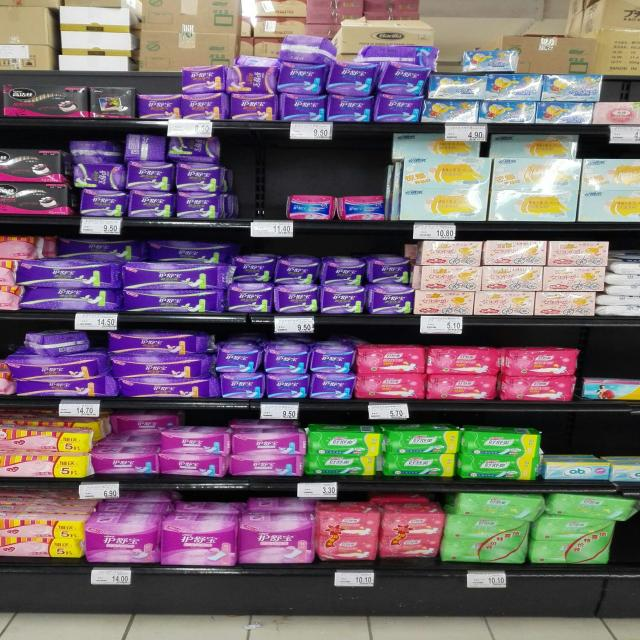void: (258, 178, 288, 232), (224, 181, 255, 228)
